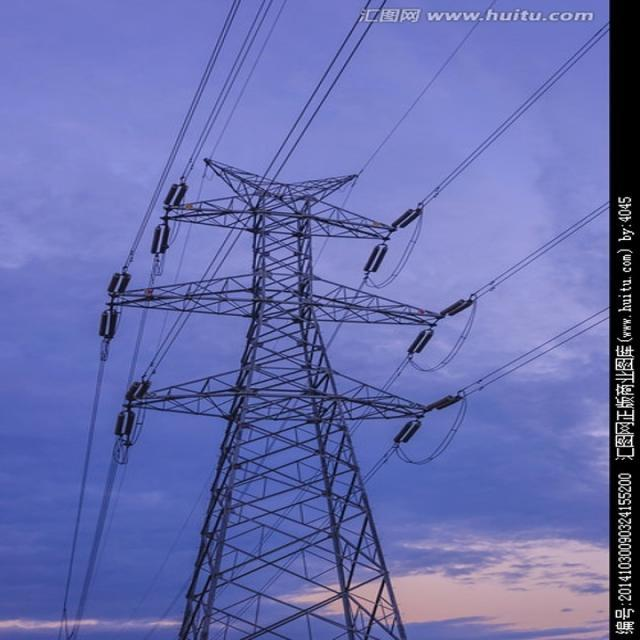non-critical vegetation: (78, 159, 532, 635)
